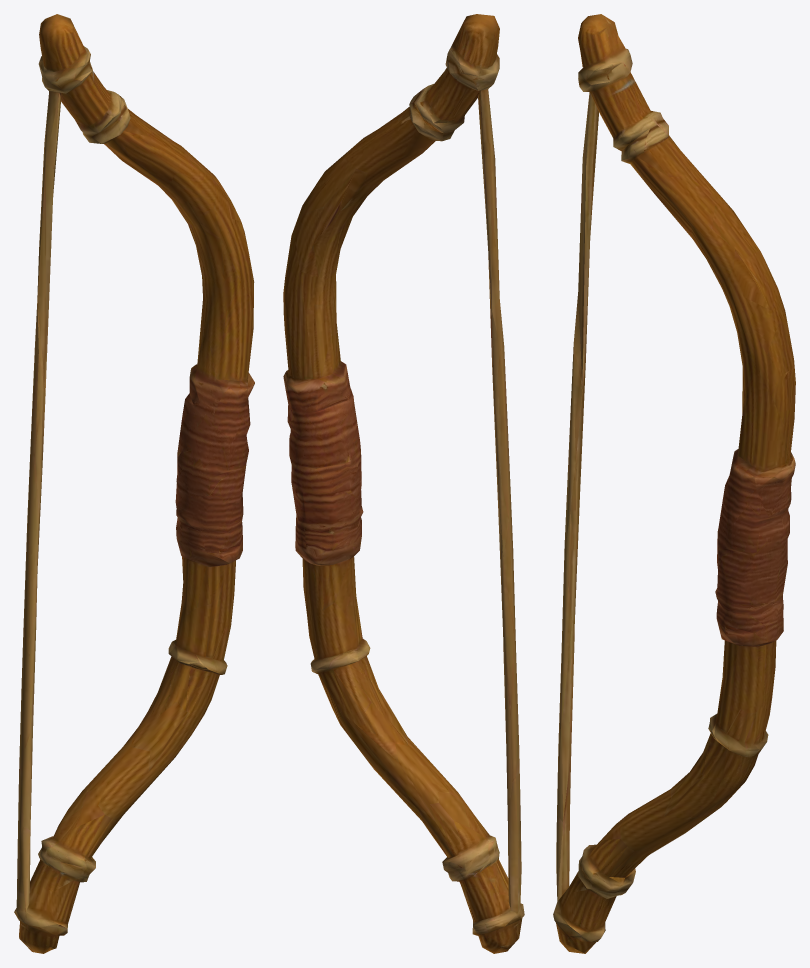
Rendered from wpn_bow.glb.
3 renders of one model, left to right at view 1: azimuth 30°, elevation 25°; view 2: azimuth 150°, elevation 25°; view 3: azimuth 330°, elevation 25°, orthographic.
Visible parts, largest first — view 1: Mesh_0; view 2: Mesh_0; view 3: Mesh_0.
Part boxes in pixels (box(x1,y1,x2,y2)): Mesh_0: box(14, 14, 254, 953); Mesh_0: box(283, 14, 524, 953); Mesh_0: box(553, 14, 795, 953).
Bounding box in the file's own units: 0.6771 × 2.59 × 0.1953.
1 material, 1 textured.
